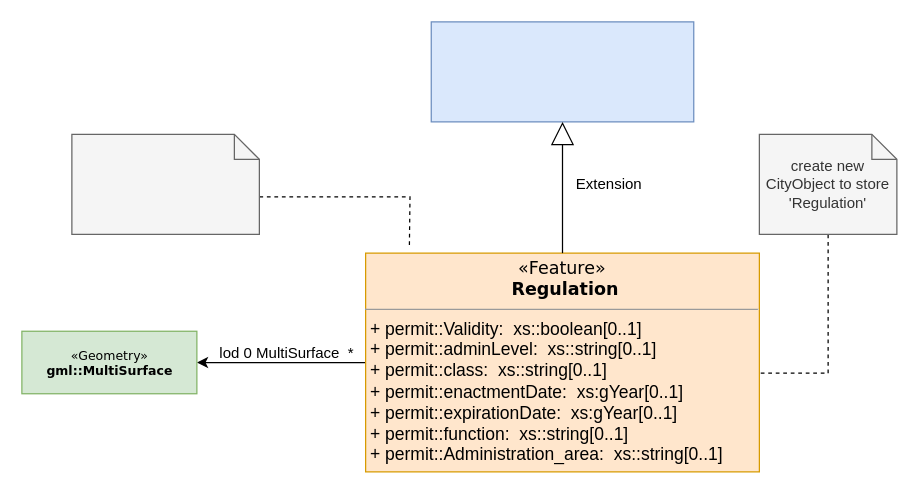
Some shapes in this 919 by 494 pixel diagram are drawn without their labels. Here are the shapes that lost their labels. From the top down, the box of each, then its label:
(430, 21, 694, 122): «Feature» core::_CityObject
(71, 133, 259, 234): Some specific parameters relate to regulation is stored in the external file
